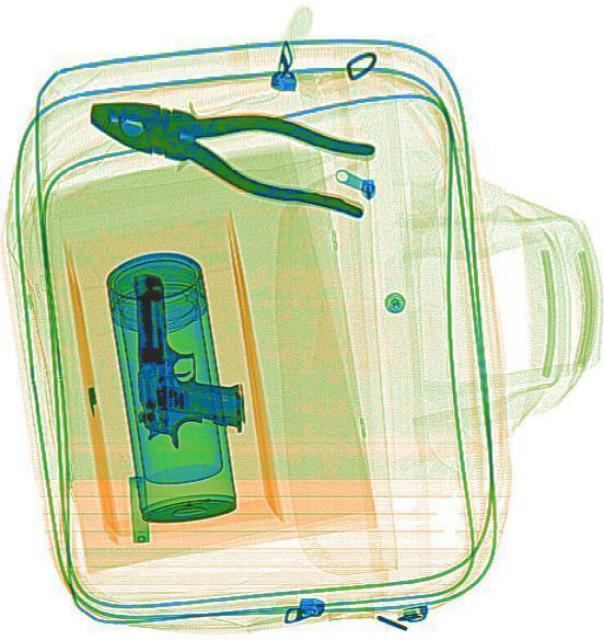Gun: (134, 272, 241, 448)
Pliers: (76, 70, 379, 222)
